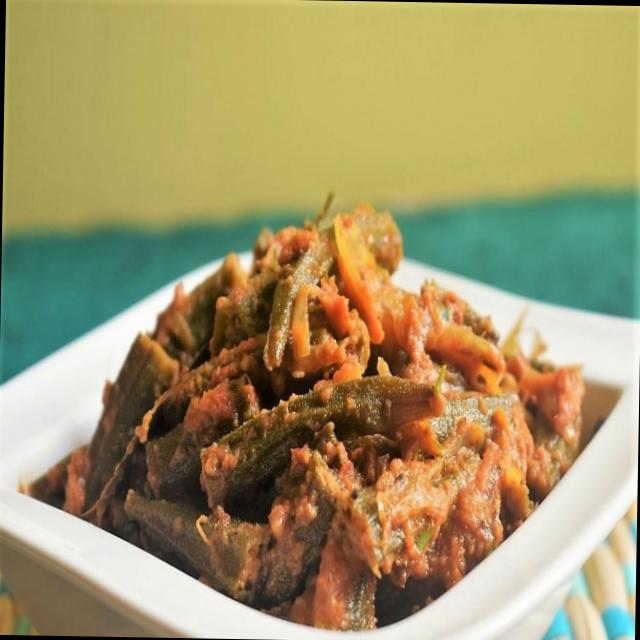BhindiMasala: (22, 187, 586, 636)
